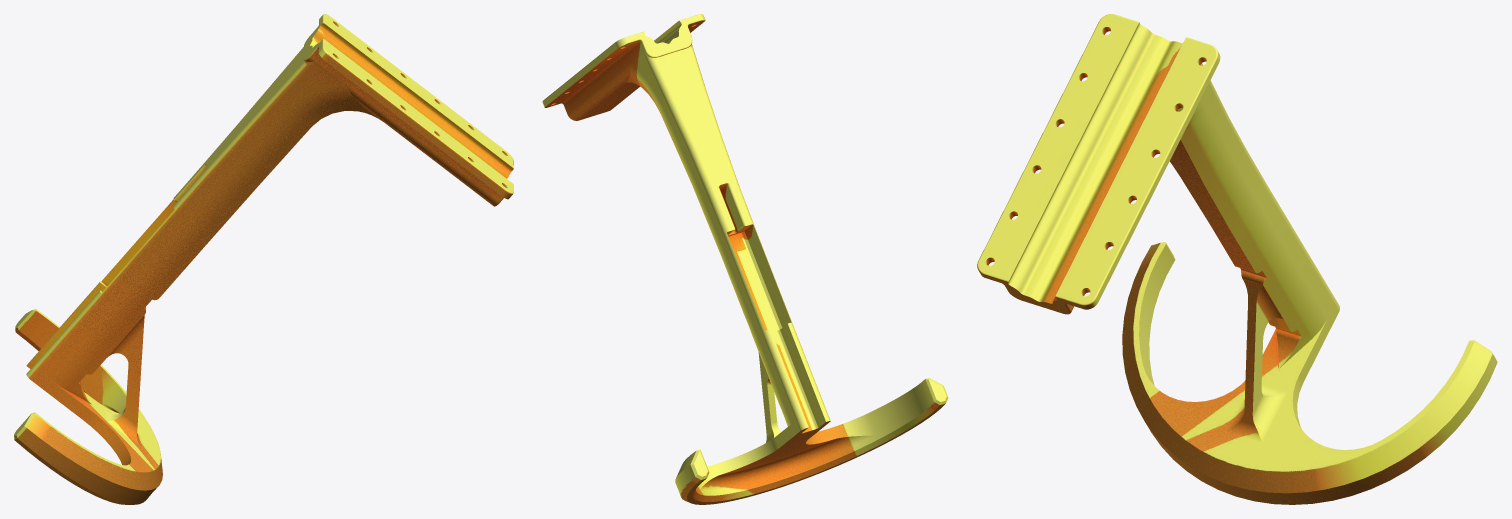
Rendered from plingus.glb.
3 renders of one model, left to right at view 1: azimuth 30°, elevation 25°; view 2: azimuth 150°, elevation 25°; view 3: azimuth 270°, elevation 25°, orthographic. The views are drawn at different scales.
Parts seen in each view (by area): view 1: Plingus; view 2: Plingus; view 3: Plingus.
Boxes of the visible parts, <box> form: Plingus: <box>14,14,513,504</box>; Plingus: <box>542,14,948,504</box>; Plingus: <box>977,14,1497,504</box>.
Size of the model in its own units: 0.2093 by 0.1918 by 0.1617.
1 material, 1 textured.
